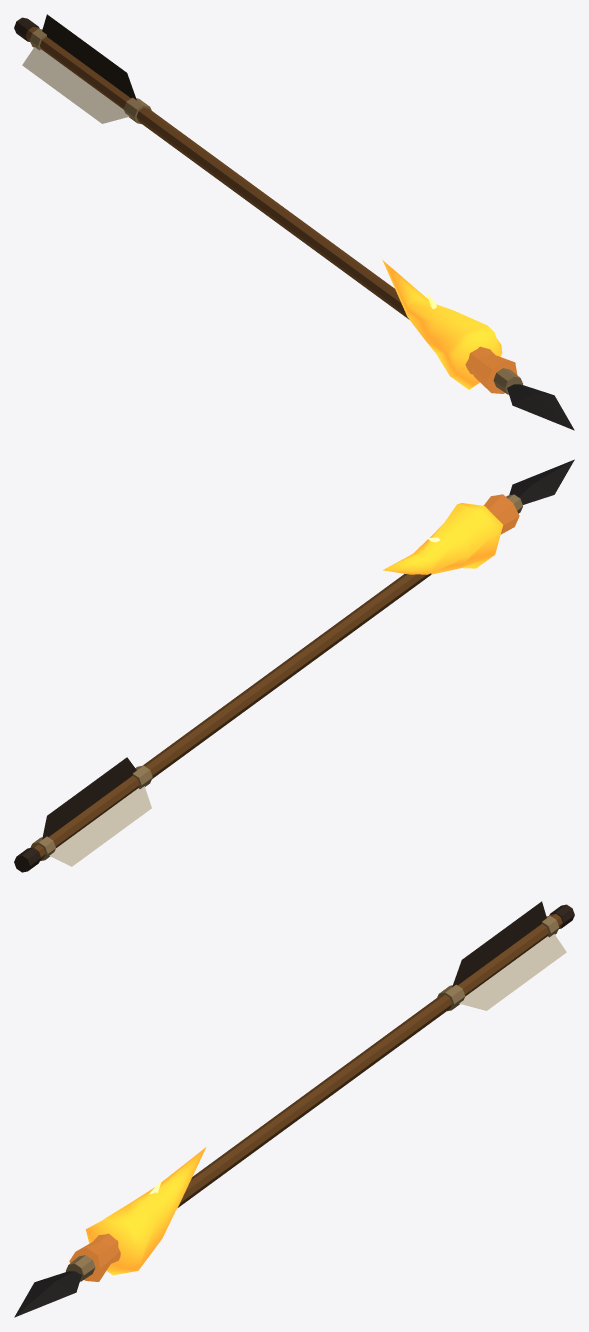
The model's file is arrow_flaming.glb.
The picture shows the model from 3 angles, top to bottom: view 1: azimuth 30°, elevation 25°; view 2: azimuth 150°, elevation 25°; view 3: azimuth 330°, elevation 25°; orthographic projection.
Visible parts, largest first — view 1: arrow_flaming, flame; view 2: arrow_flaming, flame; view 3: arrow_flaming, flame.
Part boxes in pixels (left/top/right/bottom): arrow_flaming: left=14, top=14, right=574, bottom=430; flame: left=382, top=260, right=502, bottom=389; arrow_flaming: left=14, top=459, right=574, bottom=872; flame: left=383, top=503, right=502, bottom=574; arrow_flaming: left=14, top=901, right=574, bottom=1317; flame: left=85, top=1147, right=206, bottom=1275.
Bounding box in the file's own units: 0.0564 × 0.0634 × 1.
